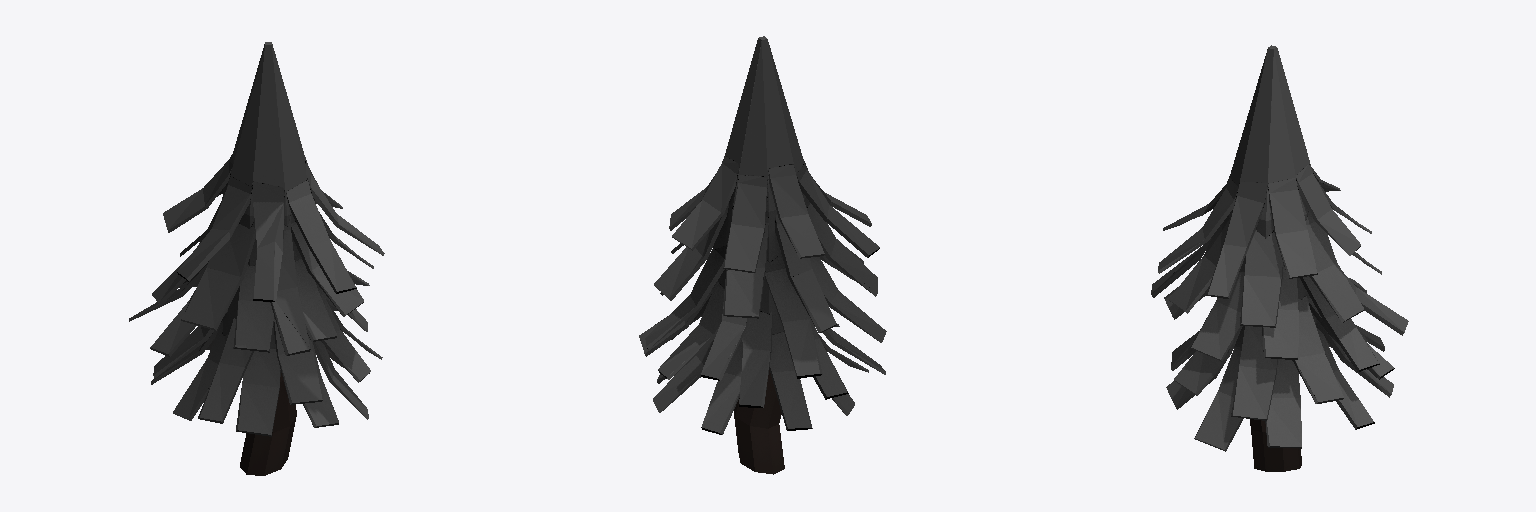
The picture shows the model from 3 angles: view 1: azimuth 30°, elevation 25°; view 2: azimuth 150°, elevation 25°; view 3: azimuth 270°, elevation 25°; orthographic projection.
Parts seen in each view (by area): view 1: model(4); view 2: model(4); view 3: model(4).
Boxes of the visible parts, x1=… form: model(4): x1=129, y1=42, x2=384, y2=475; model(4): x1=639, y1=36, x2=886, y2=474; model(4): x1=1151, y1=45, x2=1408, y2=471.
Bounding box in the file's own units: 0.515 × 0.9484 × 0.5203.
Materials: 1 (1 with a texture image).